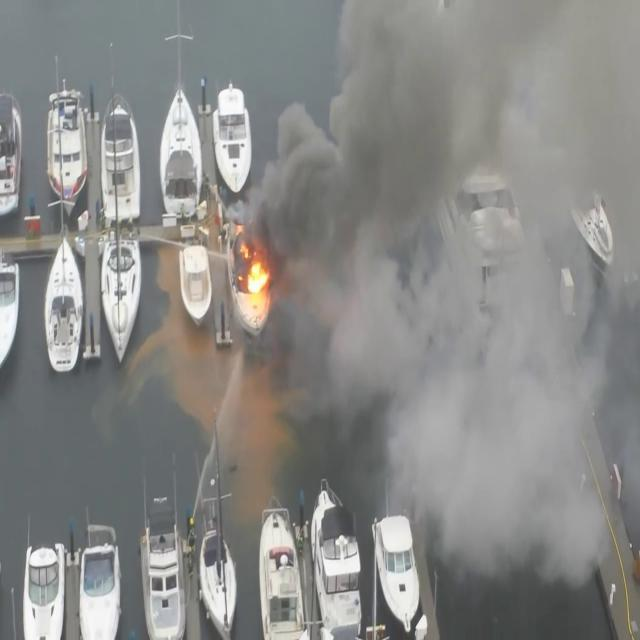Fire: (239, 242, 271, 304)
Smoke: (251, 0, 640, 576)
